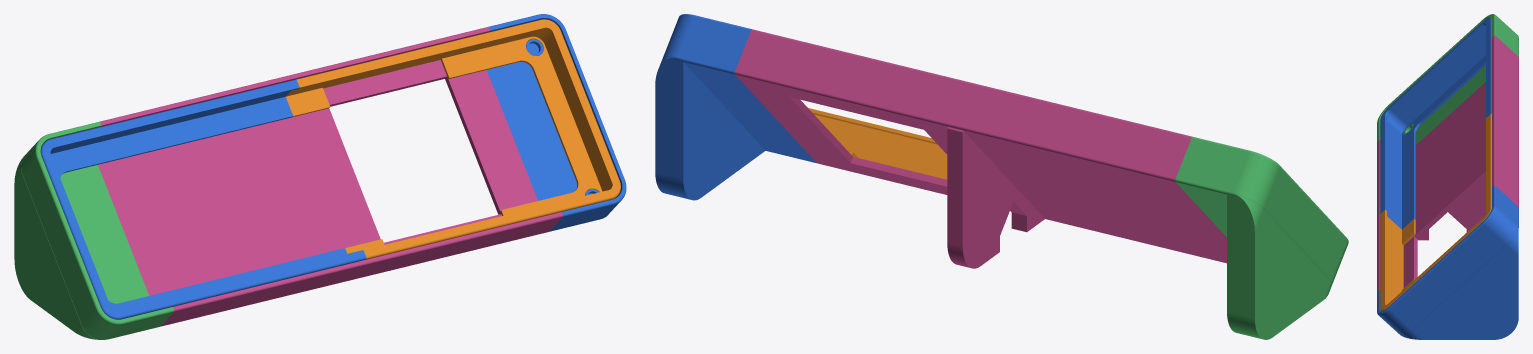
File: assemblage_xeneon.glb
3 views of the same model, side by side, from view 1: azimuth 30°, elevation 25°; view 2: azimuth 150°, elevation 25°; view 3: azimuth 270°, elevation 25° (orthographic). The views are drawn at different scales.
Parts seen in each view (by area): view 1: pied_centre, pied_gauche, coque_droite, coque_gauche, pied_droite; view 2: pied_centre, pied_gauche, pied_droite, coque_droite; view 3: pied_centre, pied_droite, coque_gauche, coque_droite, pied_gauche.
Boxes of the visible parts, bbox=[...] form: pied_centre: bbox=[98, 27, 562, 326]; pied_gauche: bbox=[14, 121, 173, 339]; coque_droite: bbox=[286, 19, 620, 259]; coque_gauche: bbox=[40, 79, 366, 319]; pied_droite: bbox=[487, 14, 626, 231]; pied_centre: bbox=[734, 29, 1226, 268]; pied_gauche: bbox=[1175, 137, 1348, 339]; pied_droite: bbox=[655, 14, 816, 200]; coque_droite: bbox=[808, 108, 947, 179]; pied_centre: bbox=[1377, 35, 1518, 291]; pied_droite: bbox=[1377, 186, 1518, 339]; coque_gauche: bbox=[1380, 17, 1491, 229]; coque_droite: bbox=[1380, 114, 1491, 311]; pied_gauche: bbox=[1377, 14, 1518, 144].
Size of the model in its own units: 0.3865 by 0.1119 by 0.1133.
